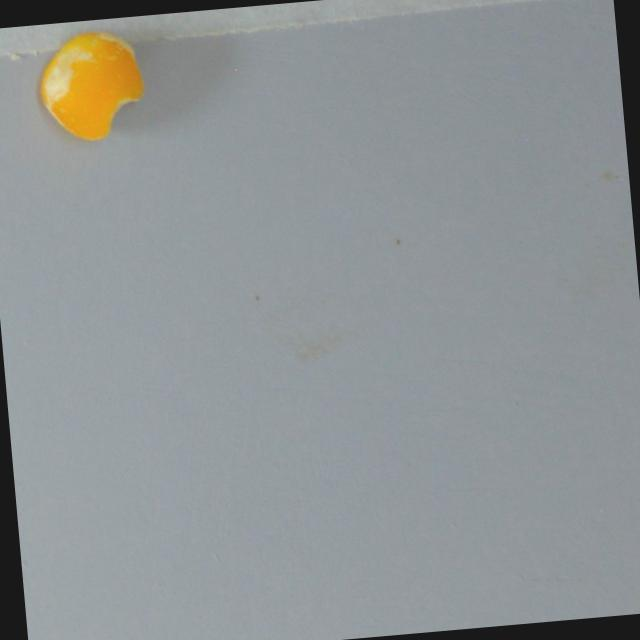pelicula: (35, 28, 147, 145)
